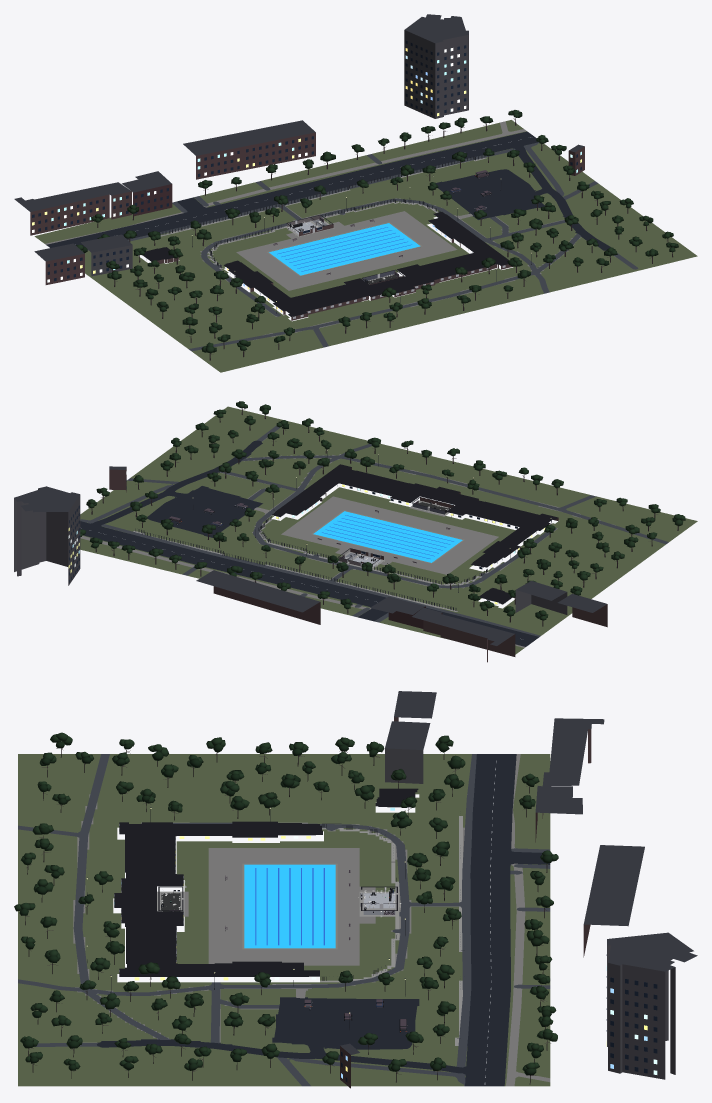
Rendered from level.glb.
3 views of the same model, one above another, from view 1: azimuth 30°, elevation 25°; view 2: azimuth 150°, elevation 25°; view 3: azimuth 270°, elevation 25° (orthographic). The views are drawn at different scales.
Visible parts, largest first — view 1: static, blocks_caps, far_canopies, canopies, props_emit, far_windows; view 2: static, blocks_caps, far_canopies, canopies, props_emit; view 3: static, blocks_caps, far_canopies, canopies, props_emit.
Part boxes in pixels (x1,y1,x2,y2): static: [14, 14, 697, 372]; blocks_caps: [143, 212, 509, 316]; far_canopies: [76, 110, 678, 353]; canopies: [123, 148, 617, 323]; props_emit: [192, 175, 531, 301]; far_windows: [32, 48, 581, 282]; static: [14, 406, 697, 662]; blocks_caps: [272, 464, 558, 604]; far_canopies: [80, 401, 685, 620]; canopies: [136, 420, 598, 610]; props_emit: [181, 450, 551, 581]; static: [18, 691, 697, 1088]; blocks_caps: [114, 788, 418, 976]; far_canopies: [14, 732, 558, 1075]; canopies: [51, 769, 464, 1036]; props_emit: [86, 808, 406, 1031].
Size of the model in its own units: 217 by 30.02 by 172.
